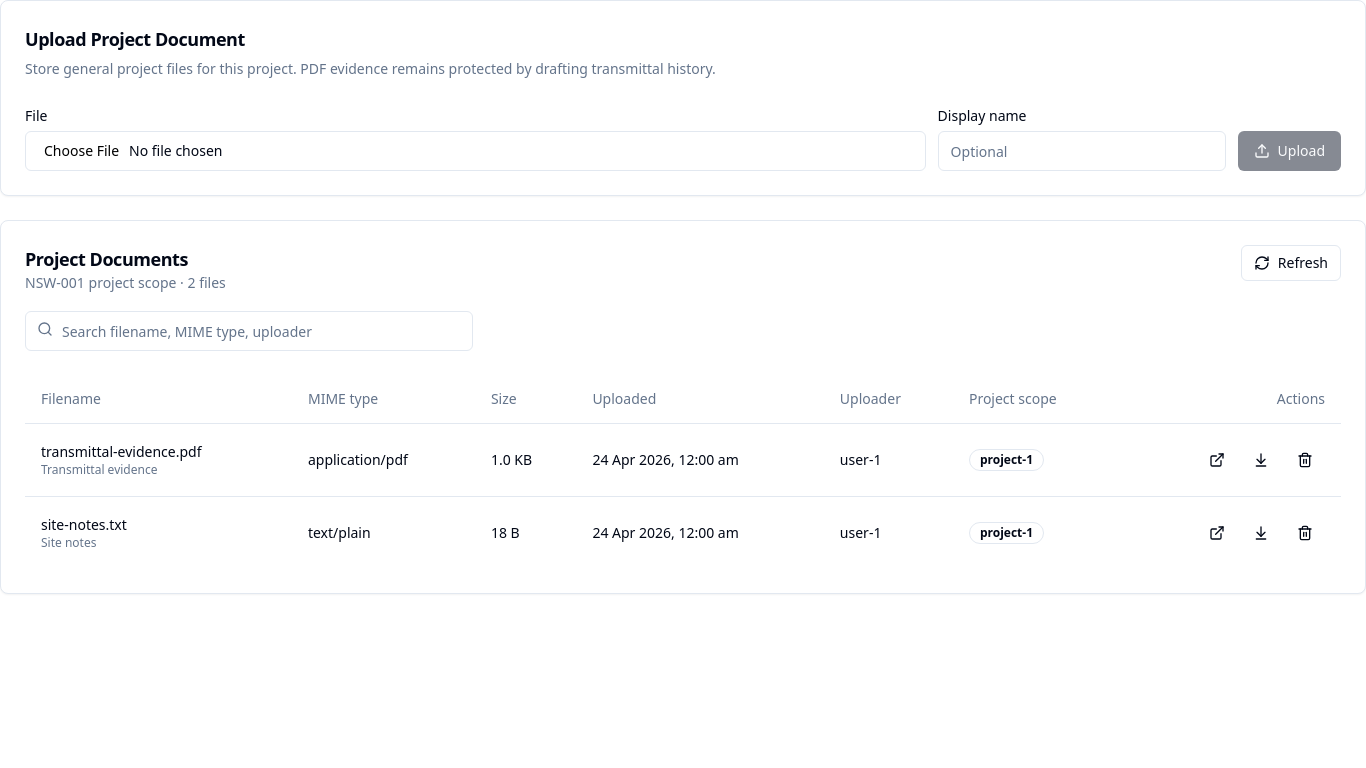
Test: ProjectDocumentManager › shows protected reference metadata from a 409 without sensitive fields
The width and height of the screenshot is (1366, 768).
Step 1. Click the button named "Delete transmittal-evidence.pdf" → [1305, 460], box [1285,440,1325,480]
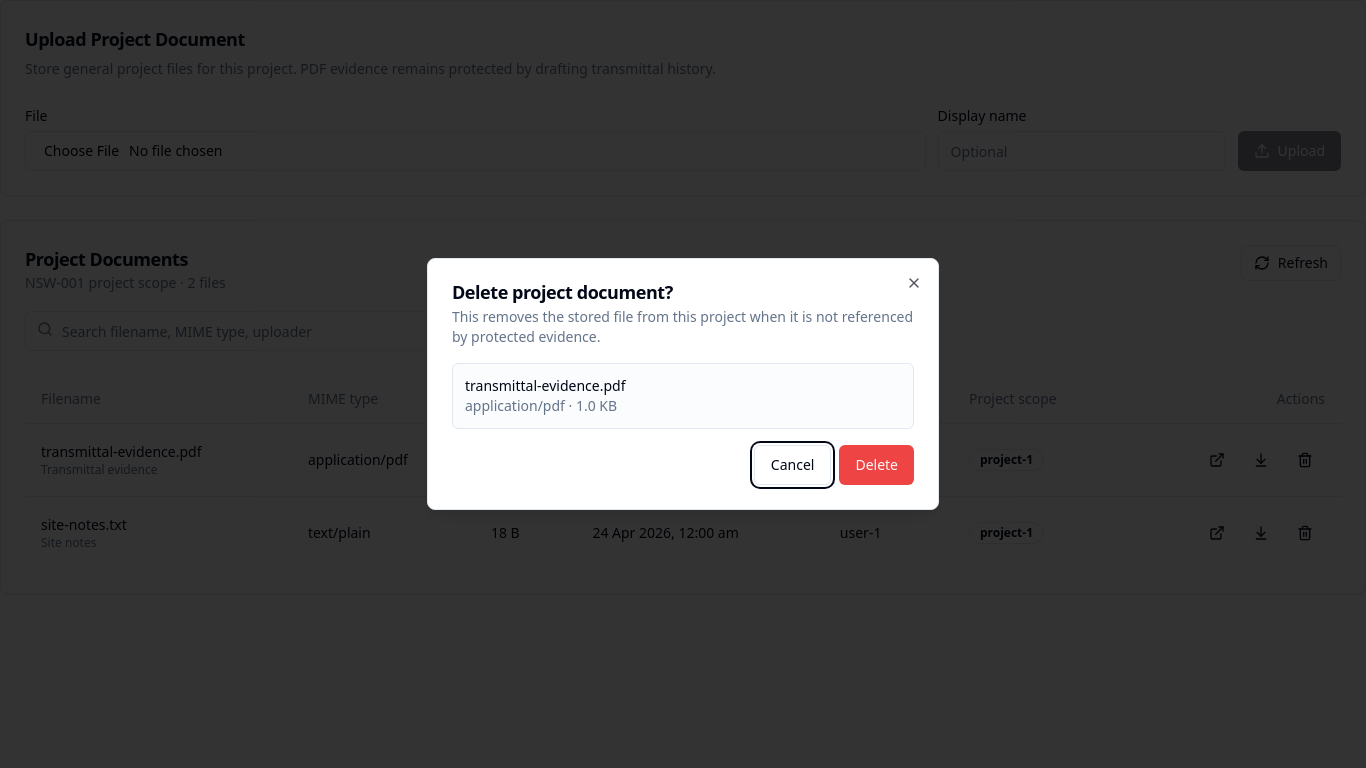
Now the button "Delete" is shown
Step 2. Click the button "Delete" → [877, 465], box [839,445,914,485]
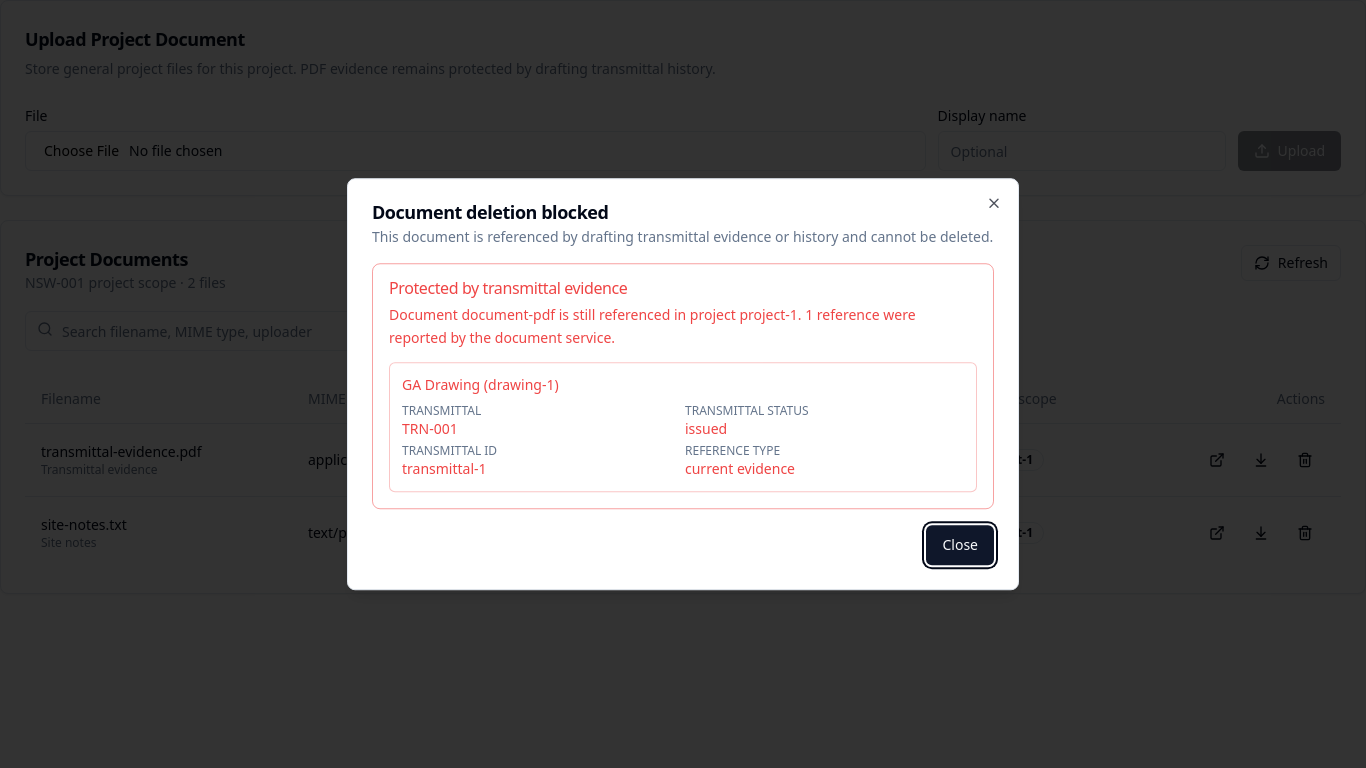
Now the text "Document deletion blocked" is shown, box [372,200,608,224]
Now the text "GA Drawing" is shown, box [402,375,480,394]
Now the text "TRN-001" is shown, box [402,419,458,438]
